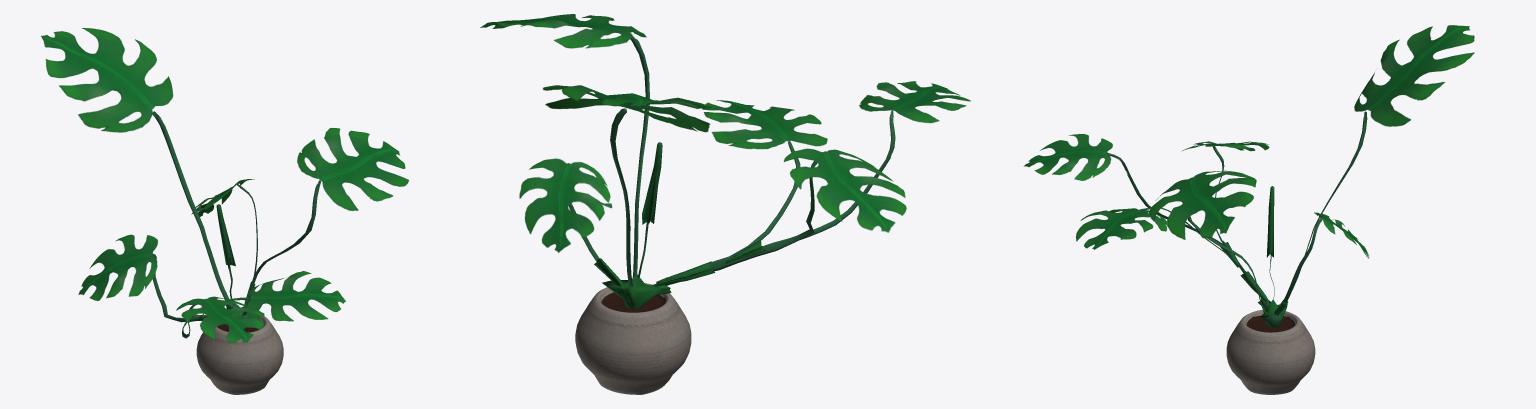
The model's file is Monstera.glb.
3 views of the same model, side by side, from view 1: azimuth 30°, elevation 25°; view 2: azimuth 150°, elevation 25°; view 3: azimuth 270°, elevation 25° (orthographic). The views are drawn at different scales.
Visible parts, largest first — view 1: Object_2, Object_4, Object_3; view 2: Object_2, Object_4, Object_3; view 3: Object_2, Object_4, Object_3.
Part boxes in pixels (x1=…): Object_2: x1=41, y1=28, x2=408, y2=342; Object_4: x1=196, y1=315, x2=283, y2=394; Object_3: x1=189, y1=204, x2=255, y2=324; Object_2: x1=480, y1=14, x2=970, y2=287; Object_4: x1=575, y1=283, x2=691, y2=394; Object_3: x1=594, y1=142, x2=765, y2=309; Object_2: x1=1023, y1=25, x2=1474, y2=315; Object_4: x1=1226, y1=309, x2=1315, y2=394; Object_3: x1=1220, y1=186, x2=1287, y2=327.
Size of the model in its own units: 7.48 by 6.32 by 9.29.
Materials: 3 (3 with a texture image).
